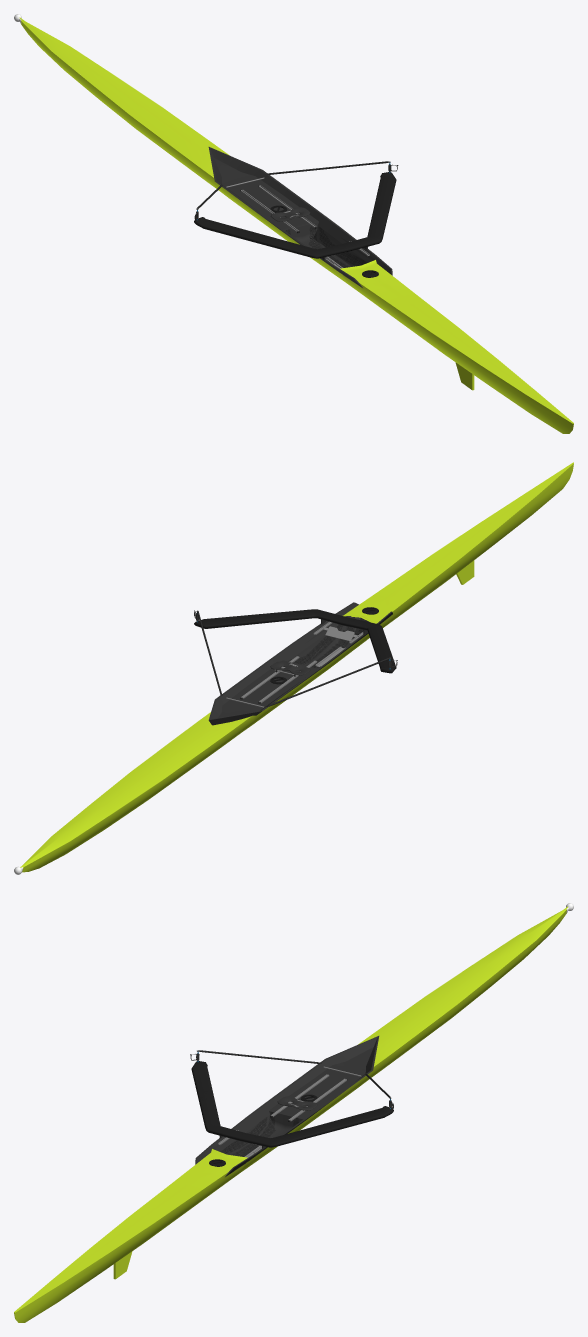
File: bote_v04_malo.fbx
The picture shows the model from 3 angles, top to bottom: view 1: azimuth 30°, elevation 25°; view 2: azimuth 150°, elevation 25°; view 3: azimuth 330°, elevation 25°; orthographic projection.
Visible parts, largest first — view 1: polySurface19, cubierta, polySurface18; view 2: polySurface19, cubierta, polySurface18; view 3: polySurface19, cubierta, polySurface18.
Part boxes in pixels (x1=…): polySurface19: x1=14, y1=14, x2=573, y2=433; cubierta: x1=214, y1=158, x2=375, y2=267; polySurface18: x1=194, y1=172, x2=396, y2=258; polySurface19: x1=14, y1=462, x2=573, y2=874; cubierta: x1=218, y1=616, x2=370, y2=717; polySurface18: x1=194, y1=609, x2=396, y2=673; polySurface19: x1=14, y1=903, x2=573, y2=1322; cubierta: x1=212, y1=1047, x2=373, y2=1156; polySurface18: x1=191, y1=1061, x2=393, y2=1147.
Size of the model in its own units: 168 by 58.33 by 799.
Materials: 1 (1 with a texture image).
